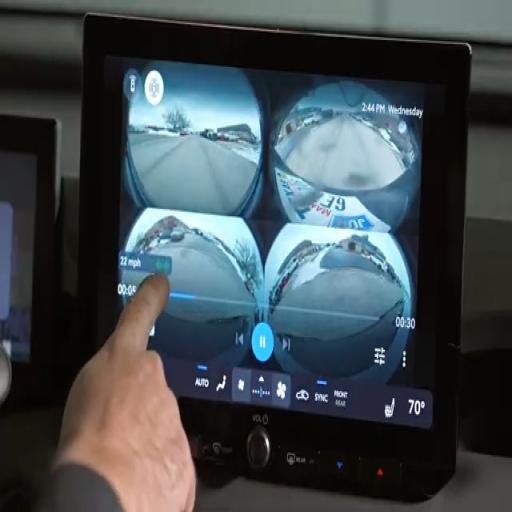windshield: (0, 0, 511, 42)
